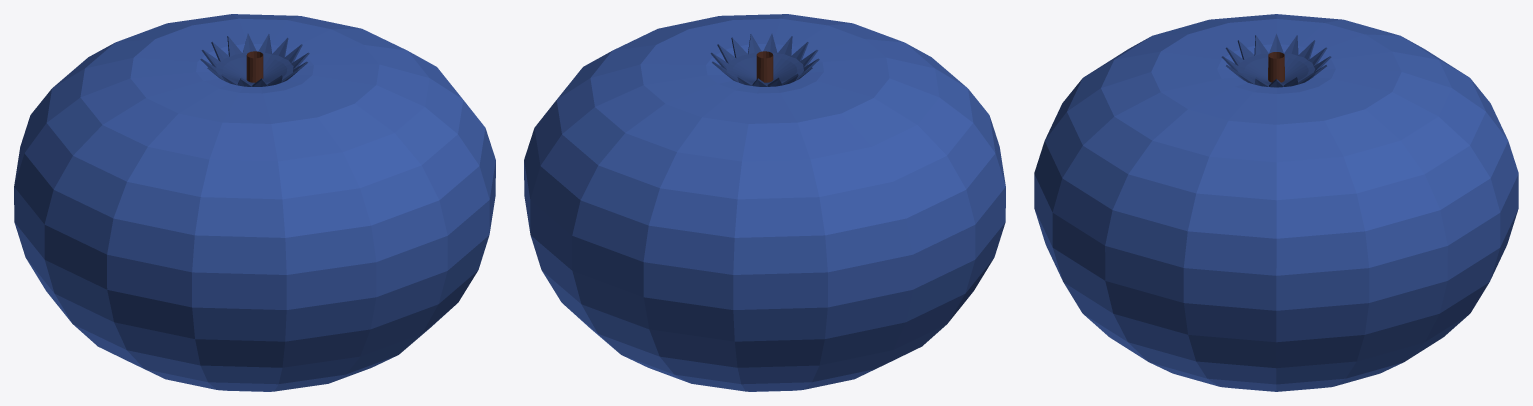
The model's file is Good_3.fbx.
3 views of the same model, side by side, from view 1: azimuth 30°, elevation 25°; view 2: azimuth 150°, elevation 25°; view 3: azimuth 270°, elevation 25° (orthographic).
Visible parts, largest first — view 1: BerryGood.003; view 2: BerryGood.003; view 3: BerryGood.003.
Part boxes in pixels (x1=…): BerryGood.003: x1=14, y1=14, x2=495, y2=391; BerryGood.003: x1=524, y1=14, x2=1005, y2=391; BerryGood.003: x1=1034, y1=14, x2=1518, y2=391.
Size of the model in its own units: 264 by 186 by 264.
